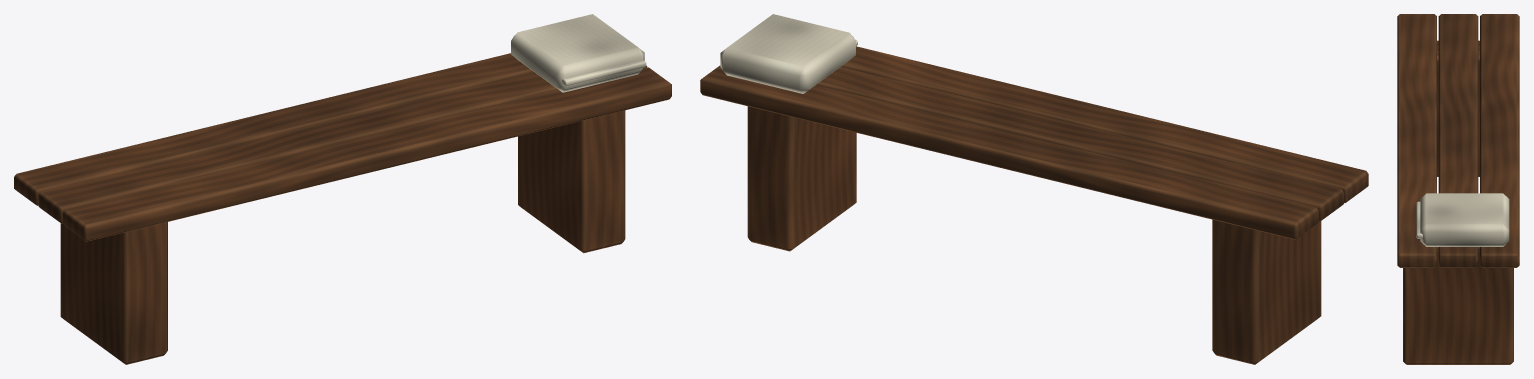
Rendered from Furn_Dress_Bench.fbx.
3 views of the same model, side by side, from view 1: azimuth 30°, elevation 25°; view 2: azimuth 150°, elevation 25°; view 3: azimuth 270°, elevation 25° (orthographic). The views are drawn at different scales.
Parts seen in each view (by area): view 1: Furn_Dress_Bench; view 2: Furn_Dress_Bench; view 3: Furn_Dress_Bench.
Part boxes in pixels (x1=…): Furn_Dress_Bench: x1=14, y1=14, x2=671, y2=364; Furn_Dress_Bench: x1=700, y1=14, x2=1368, y2=364; Furn_Dress_Bench: x1=1397, y1=14, x2=1519, y2=364.
Size of the model in its own units: 1.8 by 0.53 by 0.385.
Materials: 2 (2 with a texture image).
